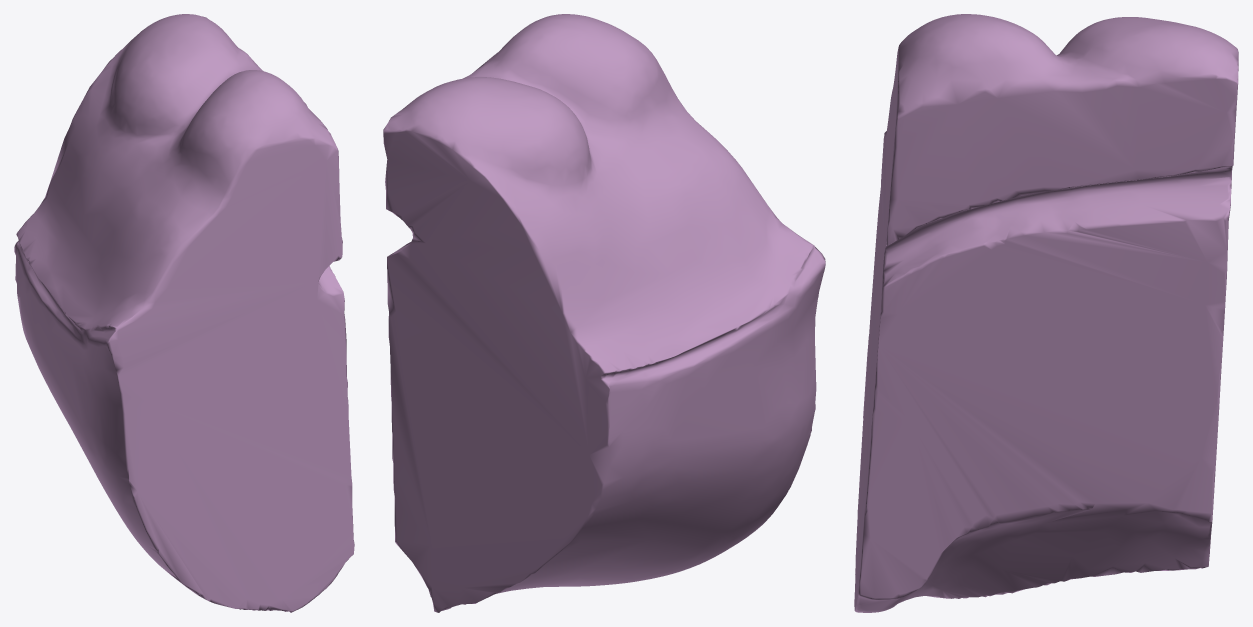
The picture shows the model from 3 angles, left to right: view 1: azimuth 30°, elevation 25°; view 2: azimuth 150°, elevation 25°; view 3: azimuth 270°, elevation 25°; orthographic projection. The views are drawn at different scales.
Parts seen in each view (by area): view 1: 右侧中脑; view 2: 右侧中脑; view 3: 右侧中脑.
Boxes of the visible parts, x1,y1,x2,y2 form: 右侧中脑: [14, 14, 354, 612]; 右侧中脑: [383, 14, 825, 612]; 右侧中脑: [854, 14, 1238, 612].
Bounding box in the file's own units: 0.021 × 0.042 × 0.0244.
